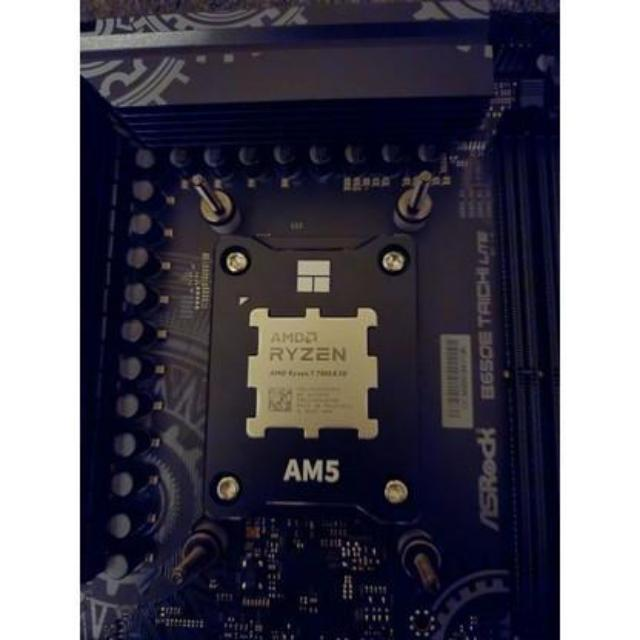CPU: (247, 304, 379, 438)
